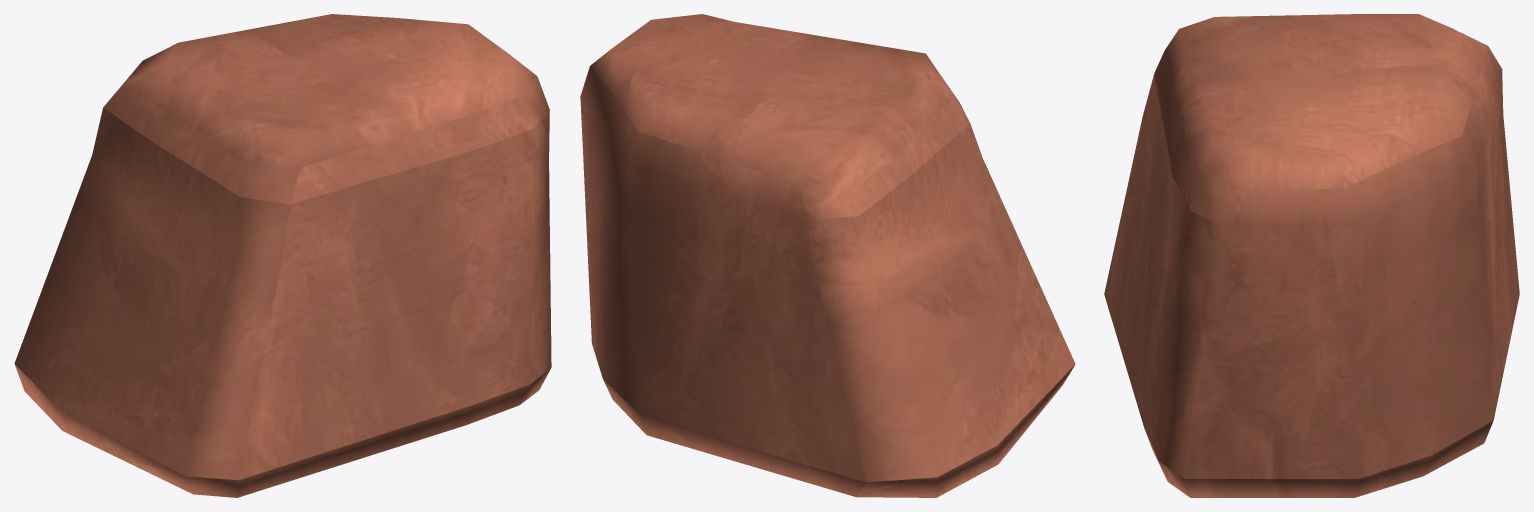
File: pm-mountain-02.glb
3 views of the same model, side by side, from view 1: azimuth 30°, elevation 25°; view 2: azimuth 150°, elevation 25°; view 3: azimuth 270°, elevation 25° (orthographic). The views are drawn at different scales.
Parts seen in each view (by area): view 1: Mountain02; view 2: Mountain02; view 3: Mountain02.
Part boxes in pixels (x1,y1,x2,y2): Mountain02: [14, 14, 551, 497]; Mountain02: [580, 14, 1075, 497]; Mountain02: [1104, 14, 1519, 497].
Bounding box in the file's own units: 2.8 × 1.98 × 2.19.
Materials: 1 (1 with a texture image).
